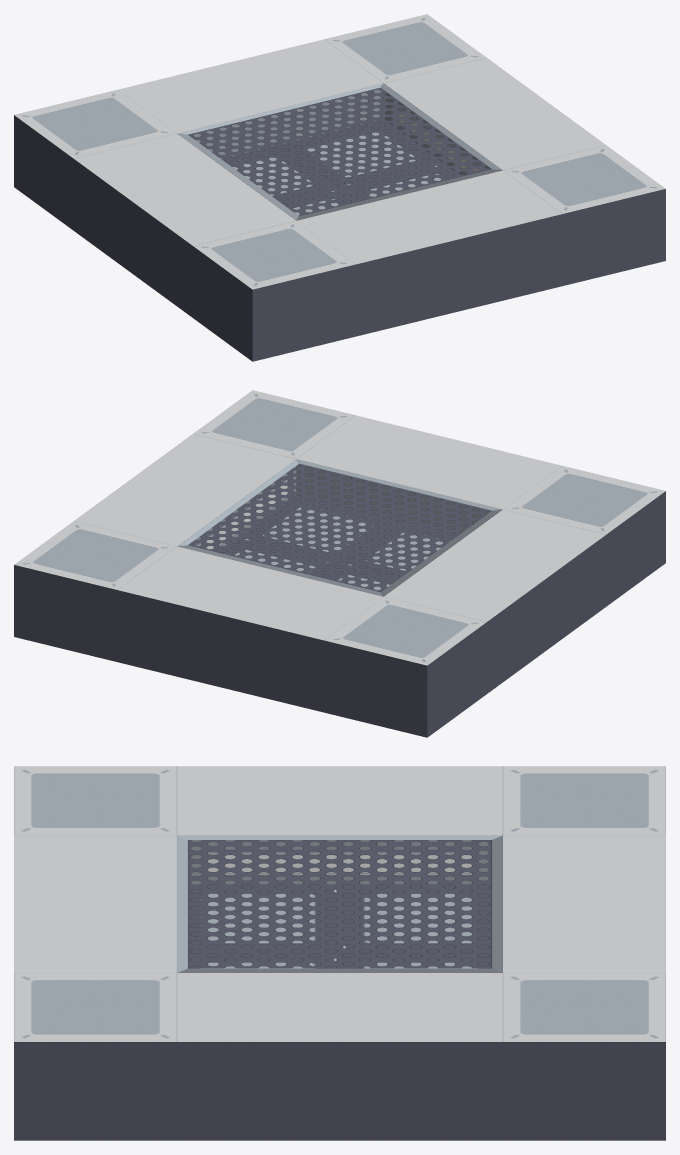
The model's file is Floor_03.FBX.
3 renders of one model, top to bottom at view 1: azimuth 30°, elevation 25°; view 2: azimuth 150°, elevation 25°; view 3: azimuth 270°, elevation 25°, orthographic. The views are drawn at different scales.
Visible parts, largest first — view 1: Floor_03; view 2: Floor_03; view 3: Floor_03.
Part boxes in pixels (x1,y1,x2,y2): Floor_03: (14, 14, 665, 361); Floor_03: (14, 390, 665, 737); Floor_03: (14, 766, 665, 1140).
Size of the model in its own units: 6 by 1 by 6.
